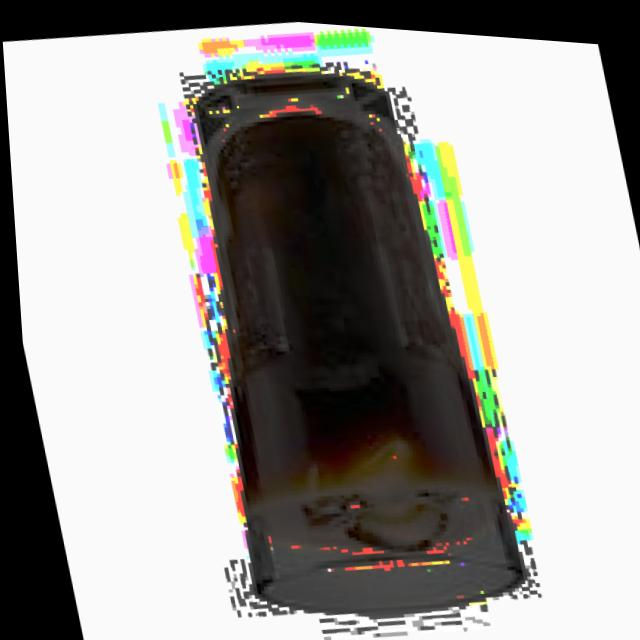drink: (210, 107, 521, 615)
